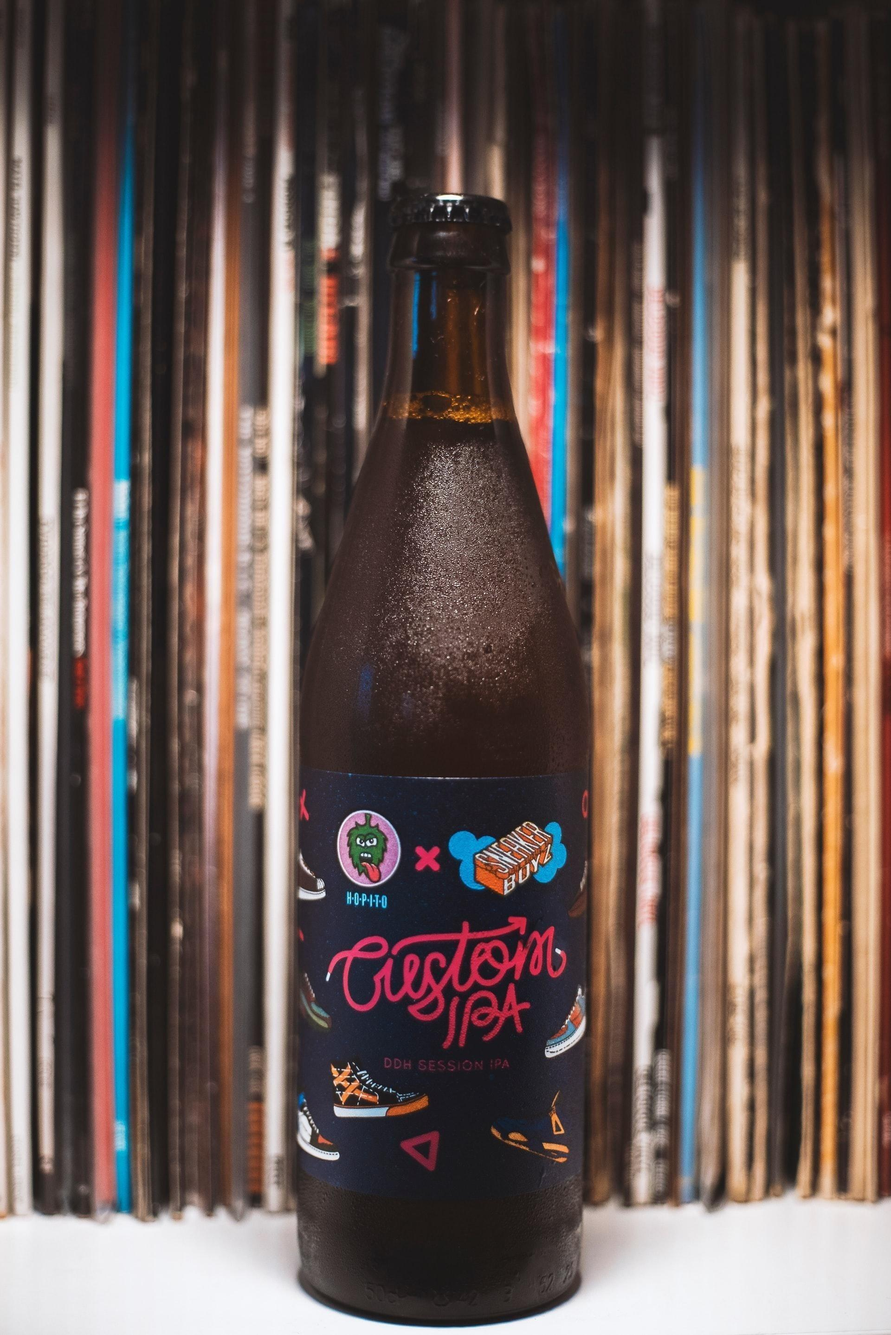bottle-glass: (281, 182, 603, 1335)
